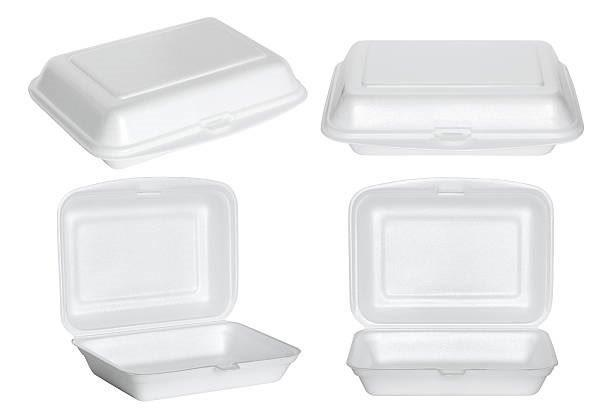sterofoam: (62, 178, 299, 399), (349, 179, 552, 395), (33, 20, 306, 164), (326, 39, 582, 157)
